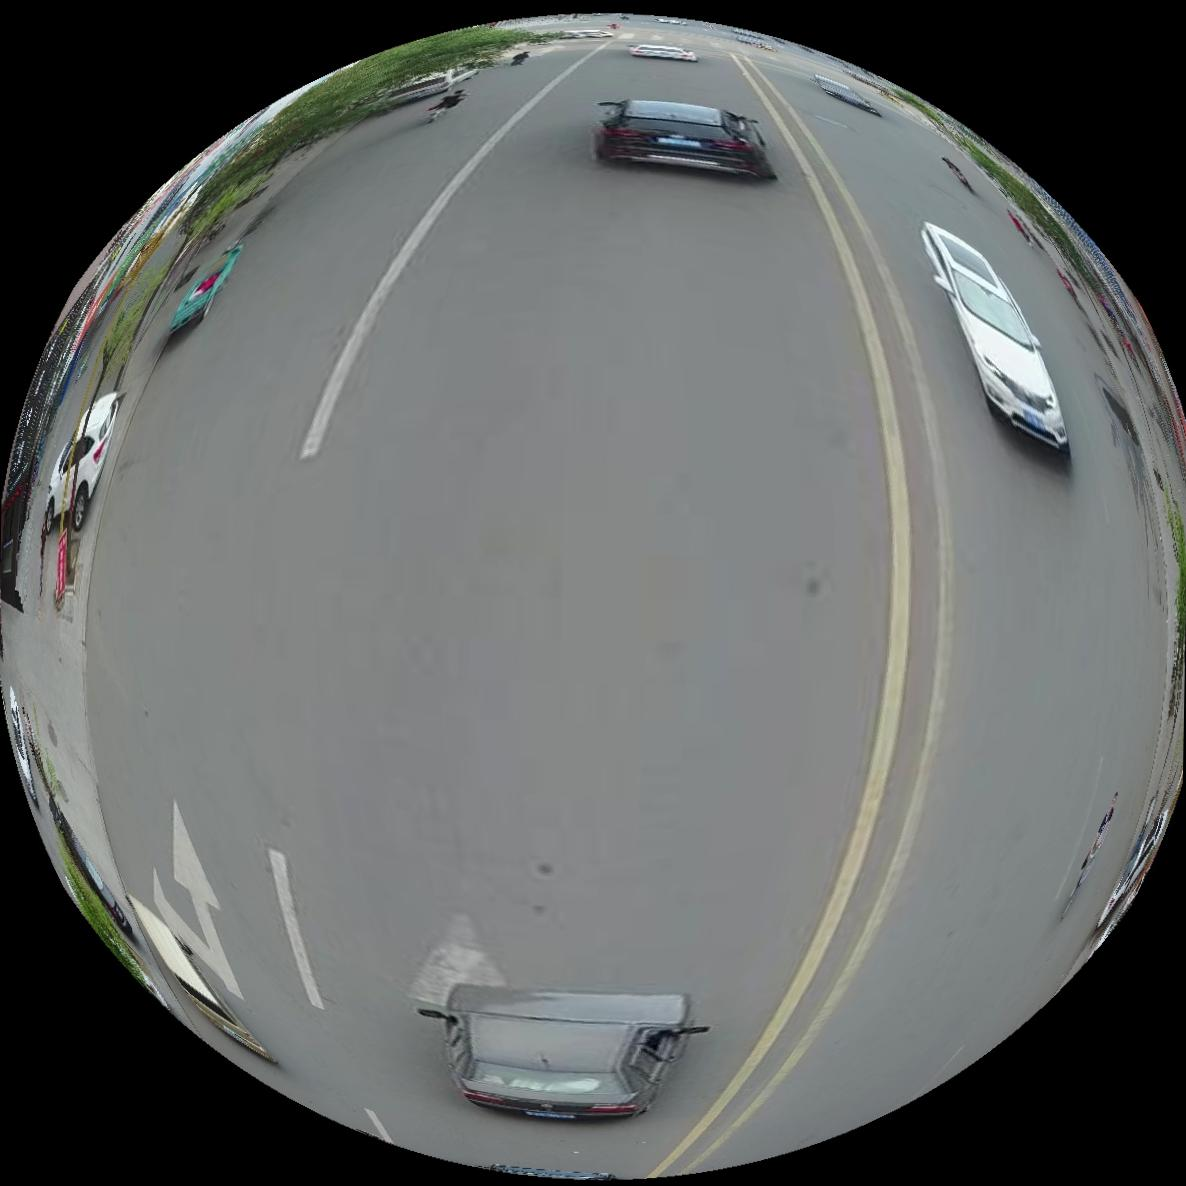cars: (419, 987, 706, 1120), (921, 222, 1071, 454), (127, 897, 272, 1064), (593, 98, 777, 177), (40, 392, 117, 538), (815, 73, 882, 114), (628, 41, 697, 61)
